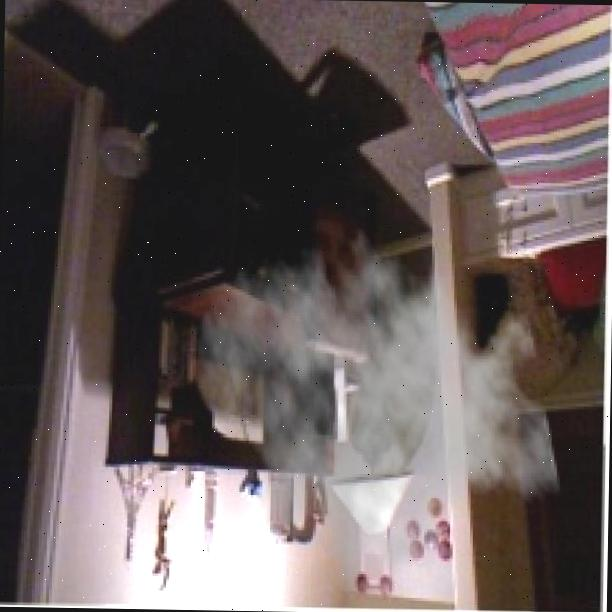smoke: (189, 208, 567, 594)
